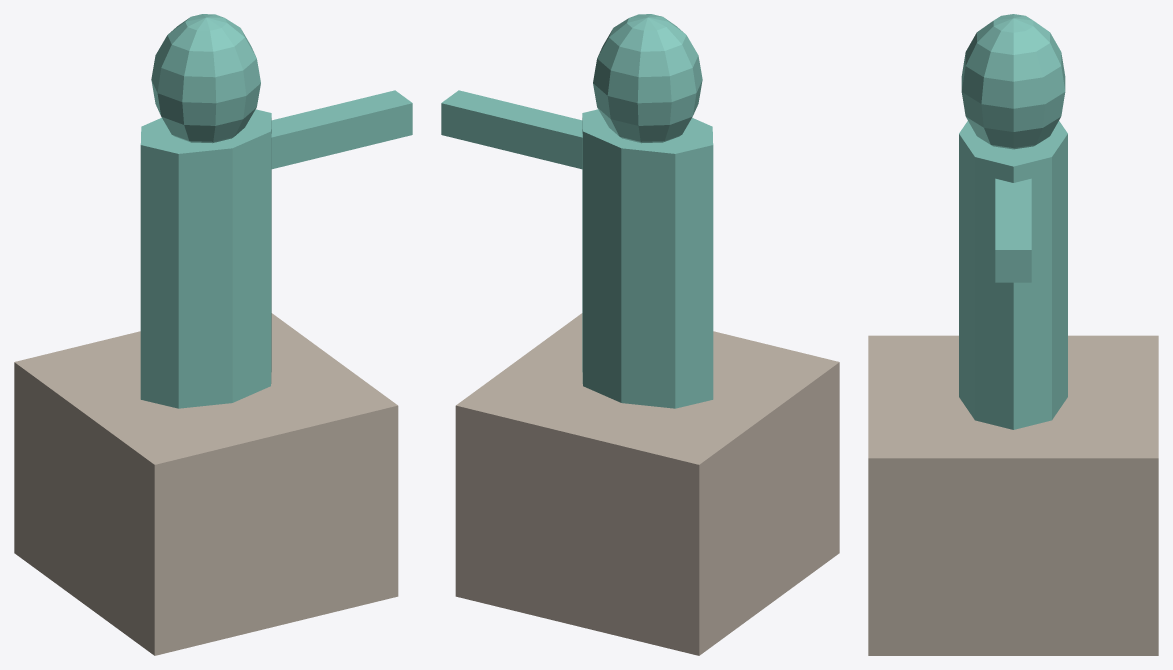
File: statue.obj
The picture shows the model from 3 angles, left to right: view 1: azimuth 30°, elevation 25°; view 2: azimuth 150°, elevation 25°; view 3: azimuth 270°, elevation 25°; orthographic projection. The views are drawn at different scales.
Visible parts, largest first — view 1: statue; view 2: statue; view 3: statue.
Part boxes in pixels (x1=…): statue: x1=14, y1=14, x2=412, y2=655; statue: x1=441, y1=14, x2=839, y2=655; statue: x1=868, y1=14, x2=1158, y2=655.
Size of the model in its own units: 2.1 by 3.5 by 1.6.
